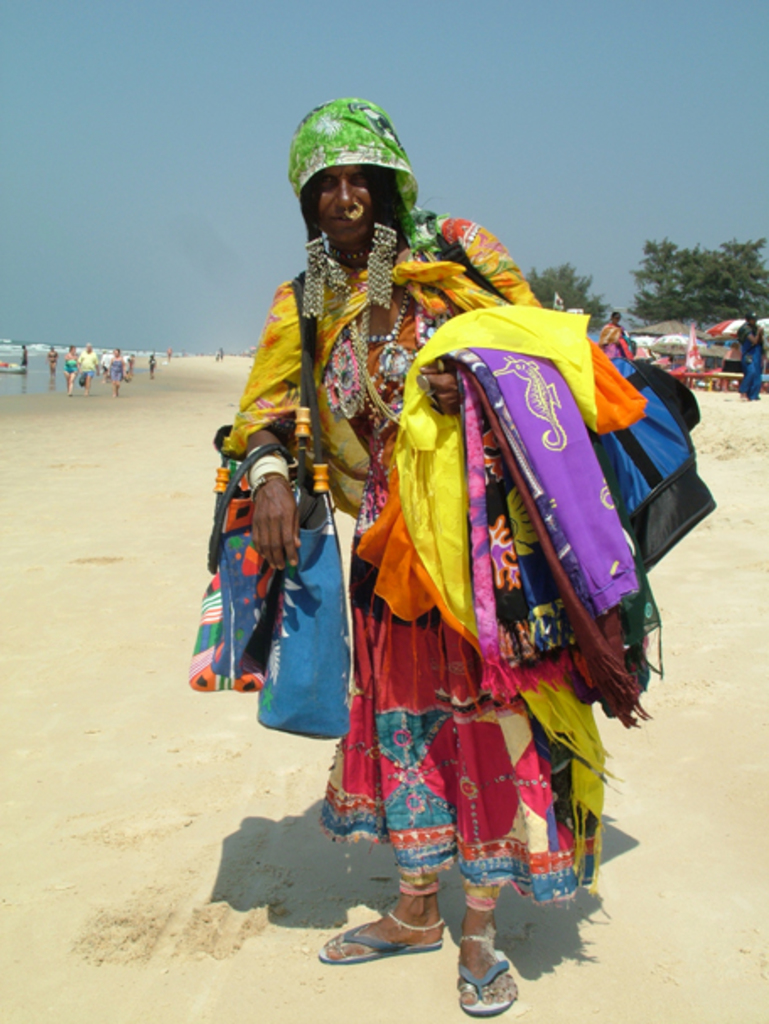Person: (20, 97, 763, 1017)
